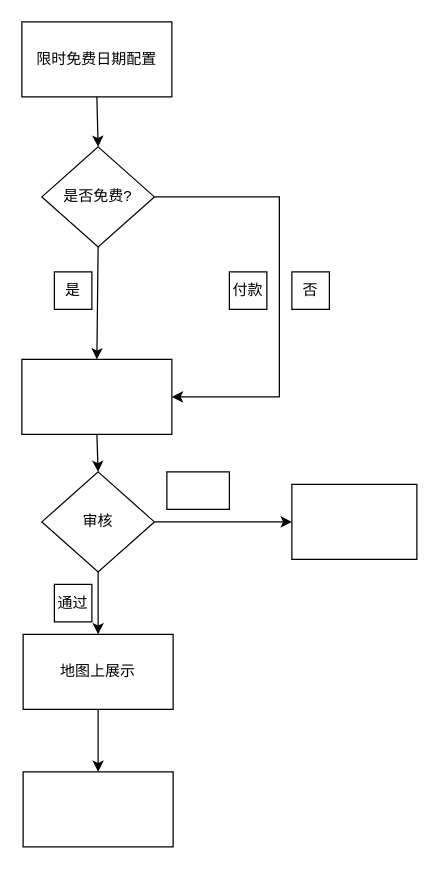
Image size: 439x869. Some labels were removed from this diagram. Each missing label, with the centre of its shape:
不通过: point (197, 490)
充电与计费: point (97, 809)
告知原因: point (354, 521)
填写提交基本信息、营业时间、计费信息、Strip支付分账相关处理: point (96, 396)
